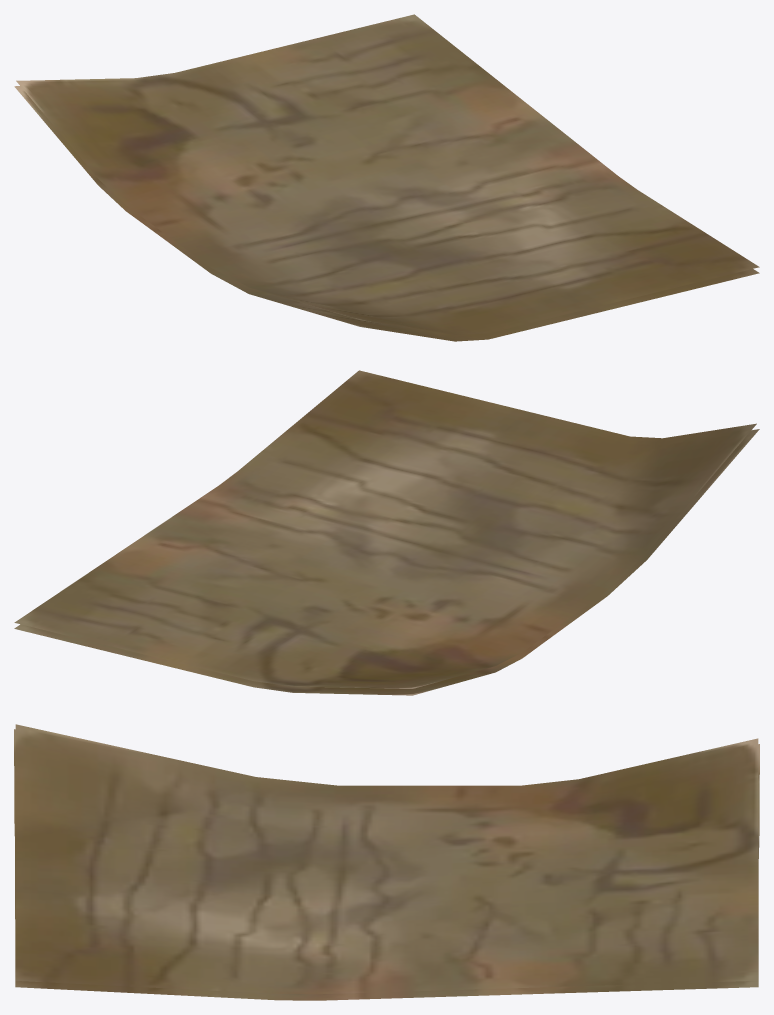
3 renders of one model, top to bottom at view 1: azimuth 30°, elevation 25°; view 2: azimuth 150°, elevation 25°; view 3: azimuth 270°, elevation 25°, orthographic. The views are drawn at different scales.
Visible parts, largest first — view 1: SM_DR_Page_01_LOD0; view 2: SM_DR_Page_01_LOD0; view 3: SM_DR_Page_01_LOD0.
Boxes of the visible parts, x1,y1,x2,y2 form: SM_DR_Page_01_LOD0: [14, 14, 759, 341]; SM_DR_Page_01_LOD0: [14, 370, 759, 695]; SM_DR_Page_01_LOD0: [14, 724, 759, 1000].
Size of the model in its own units: 0.2563 by 0.0386 by 0.3842.
Materials: 1 (1 with a texture image).
